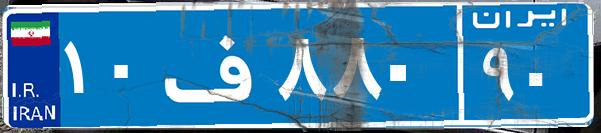0: (385, 28, 445, 110), (110, 28, 158, 105), (525, 38, 570, 115)
1: (57, 26, 110, 107)
8: (273, 28, 330, 110), (330, 28, 385, 110)
9: (475, 38, 525, 113)
ف: (158, 15, 273, 115)
